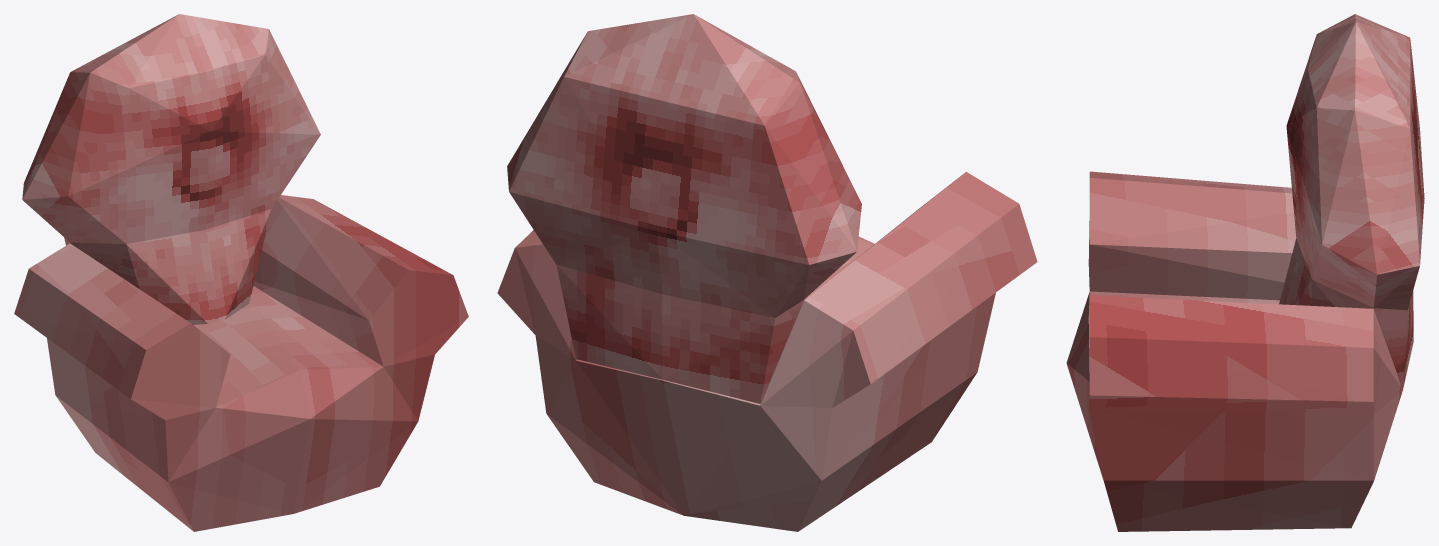
Rendered from BChair.obj.
3 views of the same model, side by side, from view 1: azimuth 30°, elevation 25°; view 2: azimuth 150°, elevation 25°; view 3: azimuth 270°, elevation 25° (orthographic). The views are drawn at different scales.
Visible parts, largest first — view 1: e.006; view 2: e.006; view 3: e.006.
Boxes of the visible parts, bbox=[...] form: e.006: bbox=[14, 14, 468, 531]; e.006: bbox=[497, 14, 1037, 531]; e.006: bbox=[1066, 14, 1424, 531].
Size of the model in its own units: 3.49 by 4.11 by 2.9.
